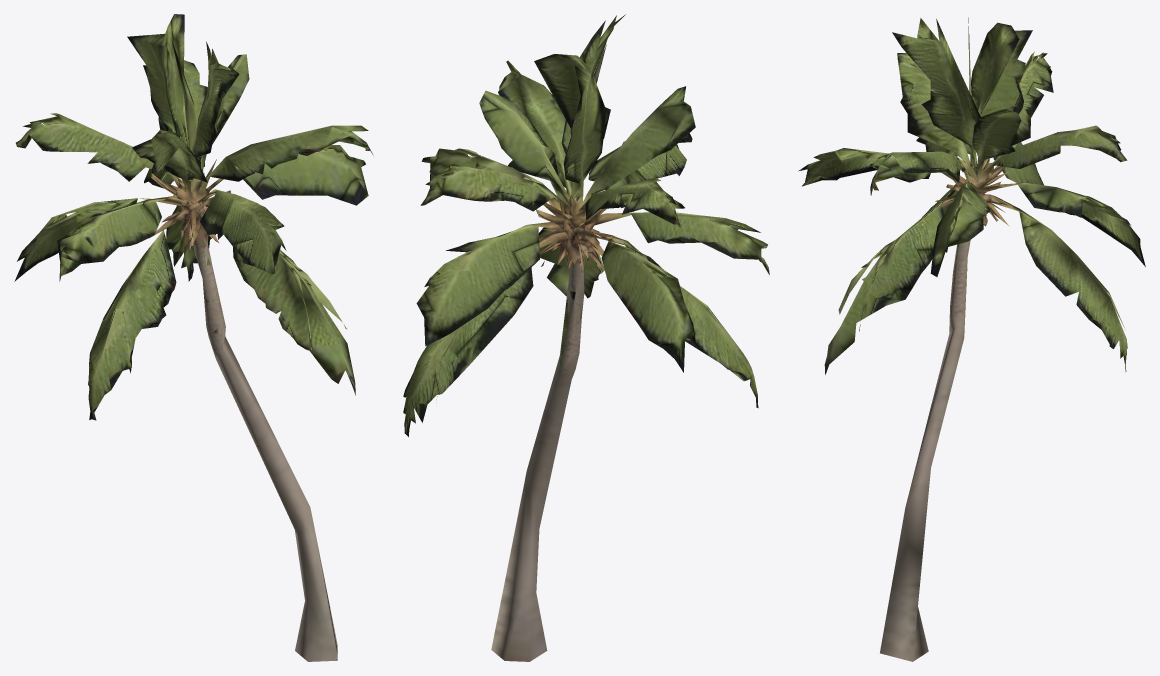
The model's file is palm_far.glb.
3 views of the same model, side by side, from view 1: azimuth 30°, elevation 25°; view 2: azimuth 150°, elevation 25°; view 3: azimuth 270°, elevation 25° (orthographic). The views are drawn at different scales.
Visible parts, largest first — view 1: tripo_node_62885272-7c80-443a-ac84-576a9d8c1b5c; view 2: tripo_node_62885272-7c80-443a-ac84-576a9d8c1b5c; view 3: tripo_node_62885272-7c80-443a-ac84-576a9d8c1b5c.
Part boxes in pixels (left/top/right/bottom): tripo_node_62885272-7c80-443a-ac84-576a9d8c1b5c: left=14, top=14, right=373, bottom=661; tripo_node_62885272-7c80-443a-ac84-576a9d8c1b5c: left=403, top=14, right=769, bottom=661; tripo_node_62885272-7c80-443a-ac84-576a9d8c1b5c: left=798, top=17, right=1145, bottom=661.
Size of the model in its own units: 0.525 by 0.9924 by 0.5309.
Materials: 1 (1 with a texture image).
